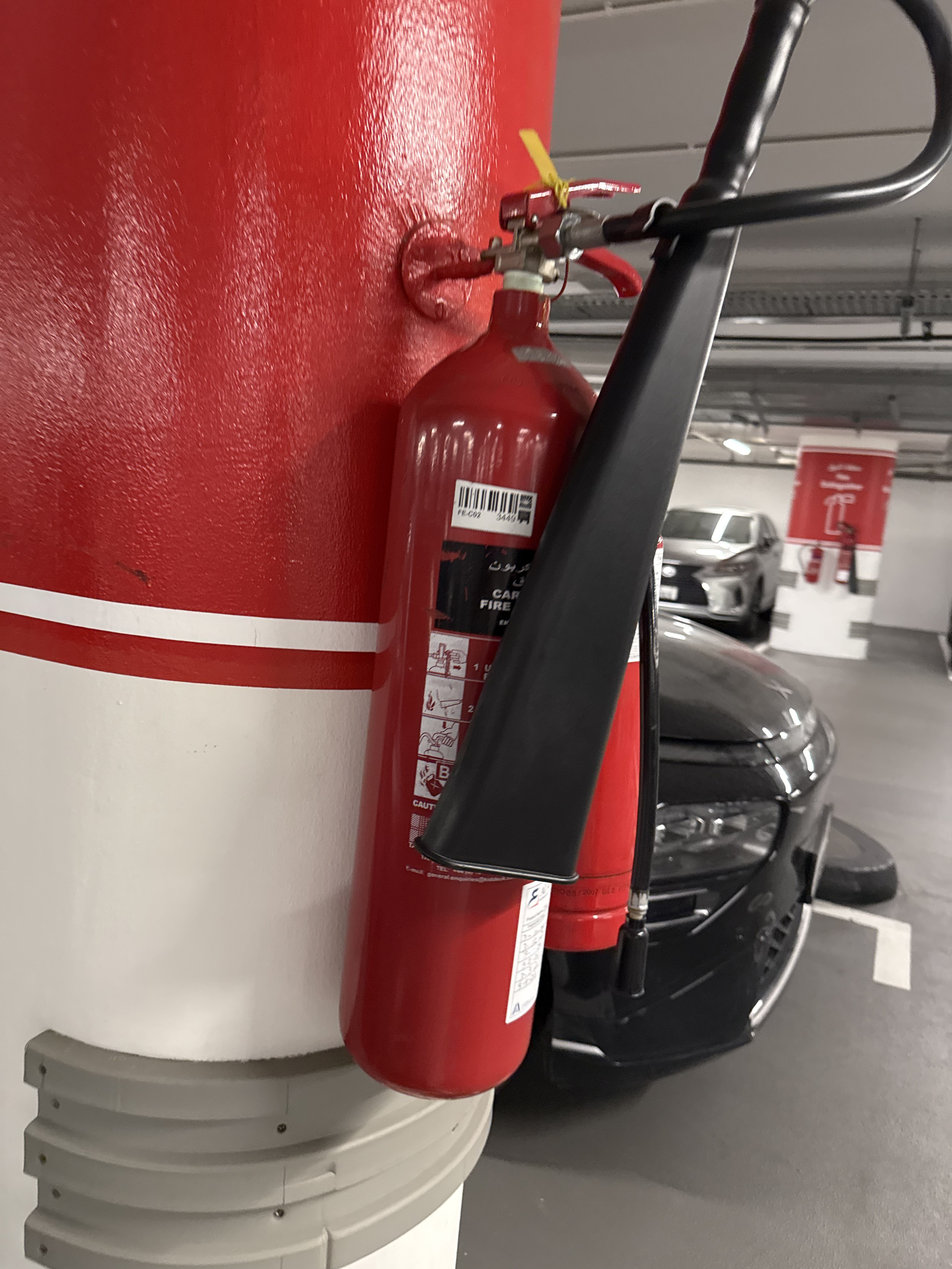fire_extinguisher: (338, 130, 657, 1102), (834, 520, 858, 593)
